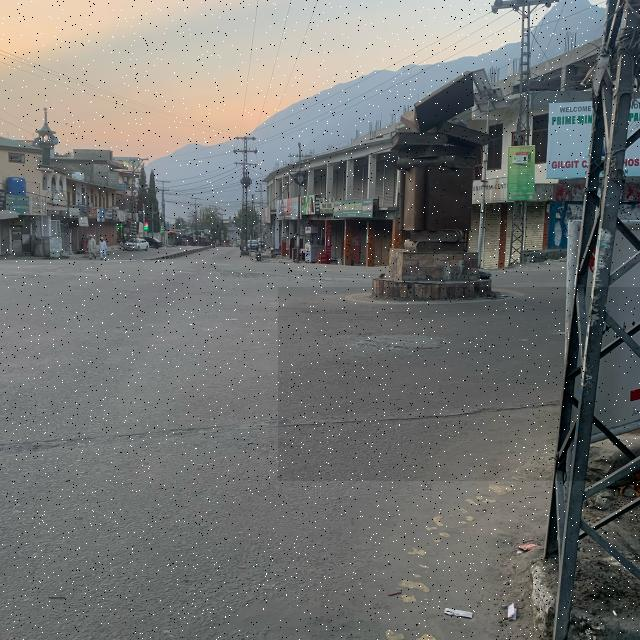right: (278, 287, 640, 481)
